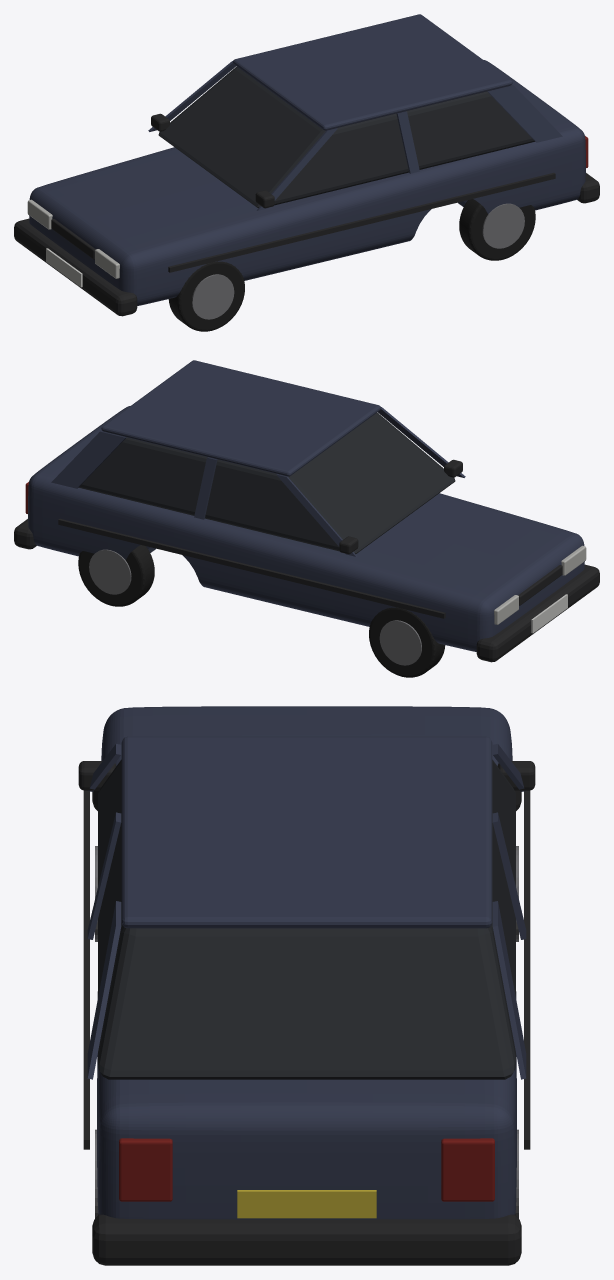
File: hatch-navy.glb
3 views of the same model, one above another, from view 1: azimuth 30°, elevation 25°; view 2: azimuth 150°, elevation 25°; view 3: azimuth 270°, elevation 25° (orthographic). The views are drawn at different scales.
Parts seen in each view (by area): view 1: car; view 2: car; view 3: car.
Part boxes in pixels (x1,y1,x2,y2): car: (14, 14, 599, 331); car: (14, 360, 599, 677); car: (78, 706, 535, 1265).
Bounding box in the file's own units: 4.19 × 1.41 × 1.7.
